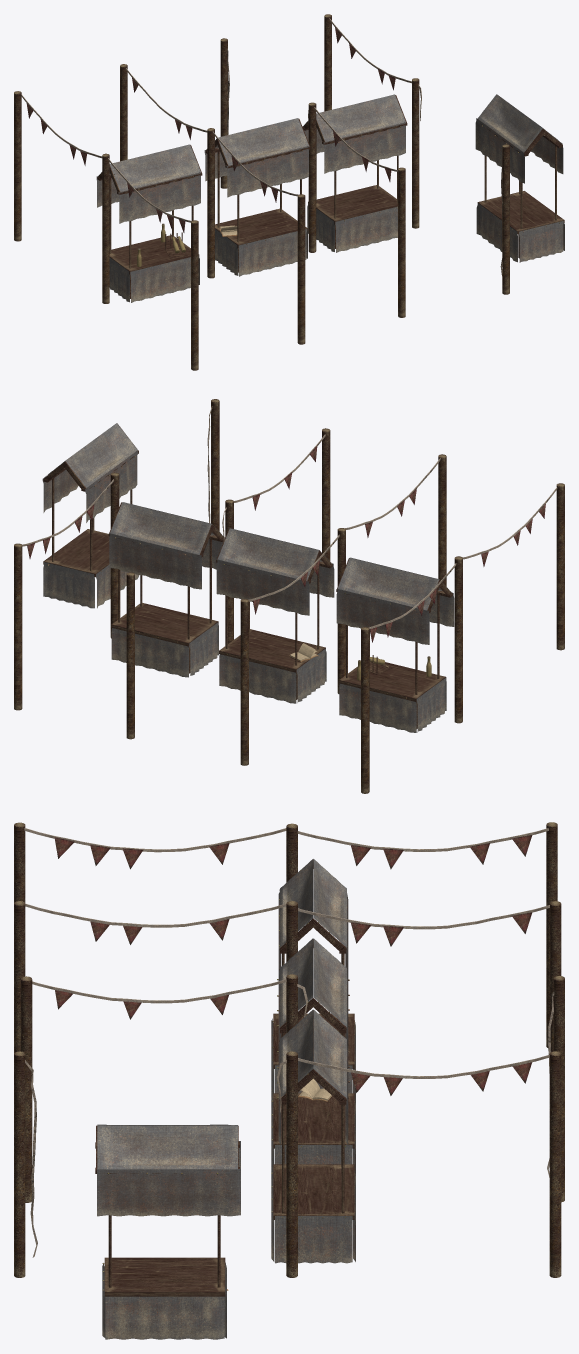
File: Rynek.fbx
3 renders of one model, top to bottom at view 1: azimuth 30°, elevation 25°; view 2: azimuth 150°, elevation 25°; view 3: azimuth 270°, elevation 25°, orthographic. The views are drawn at different scales.
Parts seen in each view (by area): view 1: Plane021, Plane069, Plane077, Plane044, Plane080, Plane072, Plane078, Plane070, Plane025, Box307, Plane085, Box285 (+28 smaller); view 2: Plane081, Plane073, Plane082, Plane045, Plane074, Plane046, Box307, Plane085, Plane071, Plane079, Plane037, Box285 (+30 smaller); view 3: Plane089, Plane090, Plane087, Box296, Box307, Plane084, Box285, Cylinder724, Cylinder869, Cylinder870, Cylinder871, Plane074 (+24 smaller).
Boxes of the visible parts, bbox=[...] form: Plane021: bbox=[109, 144, 200, 191]; Plane069: bbox=[218, 118, 308, 165]; Plane077: bbox=[316, 94, 405, 141]; Plane044: bbox=[118, 172, 200, 223]; Plane080: bbox=[323, 122, 405, 173]; Plane072: bbox=[226, 146, 309, 197]; Plane078: bbox=[335, 206, 397, 252]; Plane070: bbox=[238, 229, 306, 276]; Plane025: bbox=[130, 255, 198, 302]; Box307: bbox=[308, 185, 397, 223]; Plane085: bbox=[477, 94, 542, 152]; Box285: bbox=[215, 208, 307, 247]; Plane081: bbox=[109, 533, 201, 589]; Plane073: bbox=[216, 559, 309, 615]; Plane082: bbox=[110, 502, 211, 554]; Plane045: bbox=[336, 589, 429, 644]; Plane074: bbox=[217, 528, 318, 581]; Plane046: bbox=[337, 558, 438, 610]; Box307: bbox=[111, 603, 218, 646]; Plane085: bbox=[65, 423, 137, 487]; Plane071: bbox=[219, 654, 296, 703]; Plane079: bbox=[111, 628, 188, 677]; Plane037: bbox=[339, 683, 416, 732]; Box285: bbox=[219, 629, 325, 672]; Plane089: bbox=[97, 1169, 240, 1216]; Plane090: bbox=[97, 1125, 237, 1169]; Plane087: bbox=[105, 1296, 224, 1339]; Box296: bbox=[104, 1257, 225, 1296]; Box307: bbox=[273, 1164, 354, 1219]; Plane084: bbox=[275, 1216, 352, 1263]; Box285: bbox=[273, 1093, 354, 1148]; Cylinder724: bbox=[549, 1051, 561, 1277]; Cylinder869: bbox=[286, 1051, 297, 1277]; Cylinder870: bbox=[14, 1051, 25, 1277]; Cylinder871: bbox=[20, 976, 32, 1202]; Plane074: bbox=[313, 938, 346, 1026].
Bounding box in the file's own units: 6.4 × 2.25 × 5.03.
